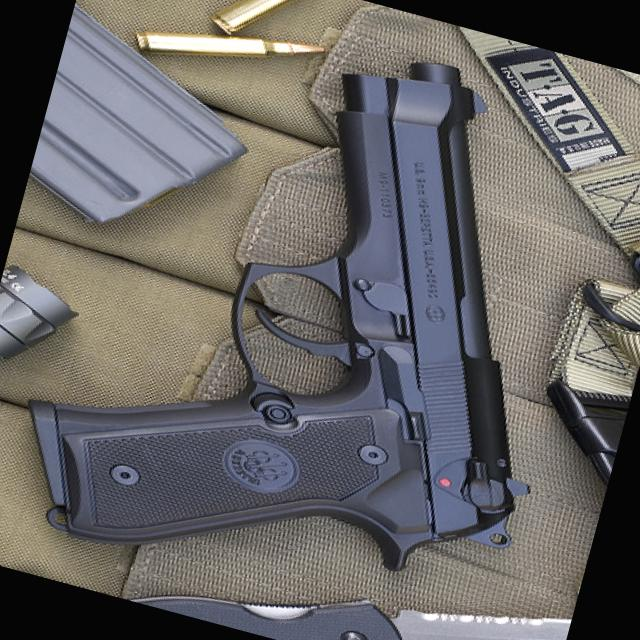handgun: (5, 0, 635, 639)
